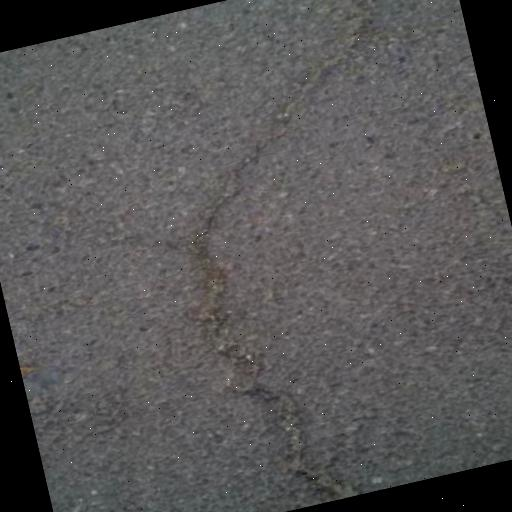spalling: (177, 0, 408, 505)
